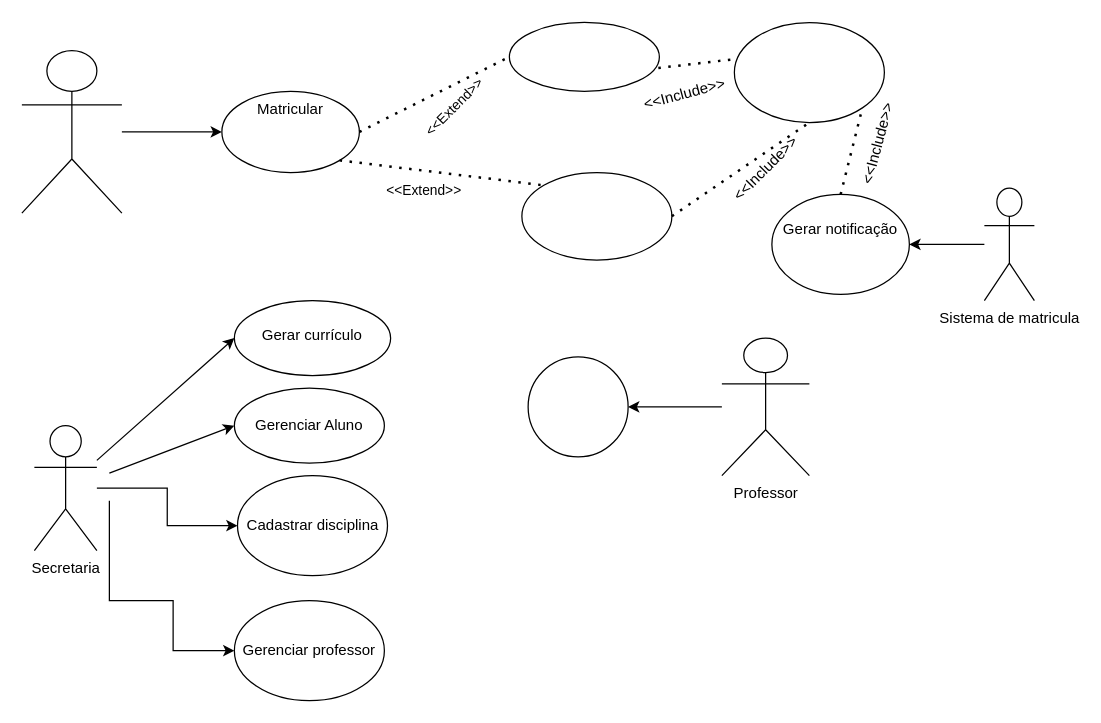
The diagram is 1101 pixels wide and 723 high, and some of its shapes have lost their labels. The centre of each missing label's shape, as x and y in pixels:
Aluno: [71,131]
Atualizar cobranças: [808,71]
Excluir disciplinas: [596,215]
Incluir disciplinas: [583,56]
Verificar matriculados: [577,406]
